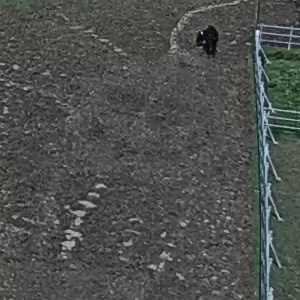cow: (191, 20, 227, 63)
